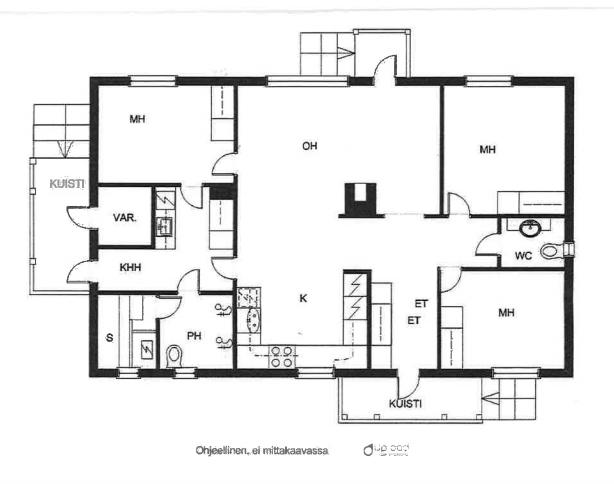bathroom: (156, 295, 232, 370), (500, 216, 568, 266)
door: (62, 202, 100, 230), (65, 257, 101, 286), (372, 54, 400, 86), (210, 150, 242, 178), (394, 371, 424, 400), (472, 230, 504, 256), (177, 182, 205, 211), (155, 295, 183, 322), (209, 255, 237, 281), (440, 264, 464, 294), (175, 268, 202, 294), (446, 192, 472, 218)
perimeter: (87, 74, 578, 380)
stairs: (34, 104, 92, 161), (298, 31, 358, 79), (484, 377, 538, 421)
window: (260, 72, 352, 92), (462, 71, 518, 92), (124, 72, 182, 90), (293, 365, 340, 381), (488, 366, 544, 378), (111, 365, 143, 380), (171, 366, 200, 380), (561, 238, 577, 260)
